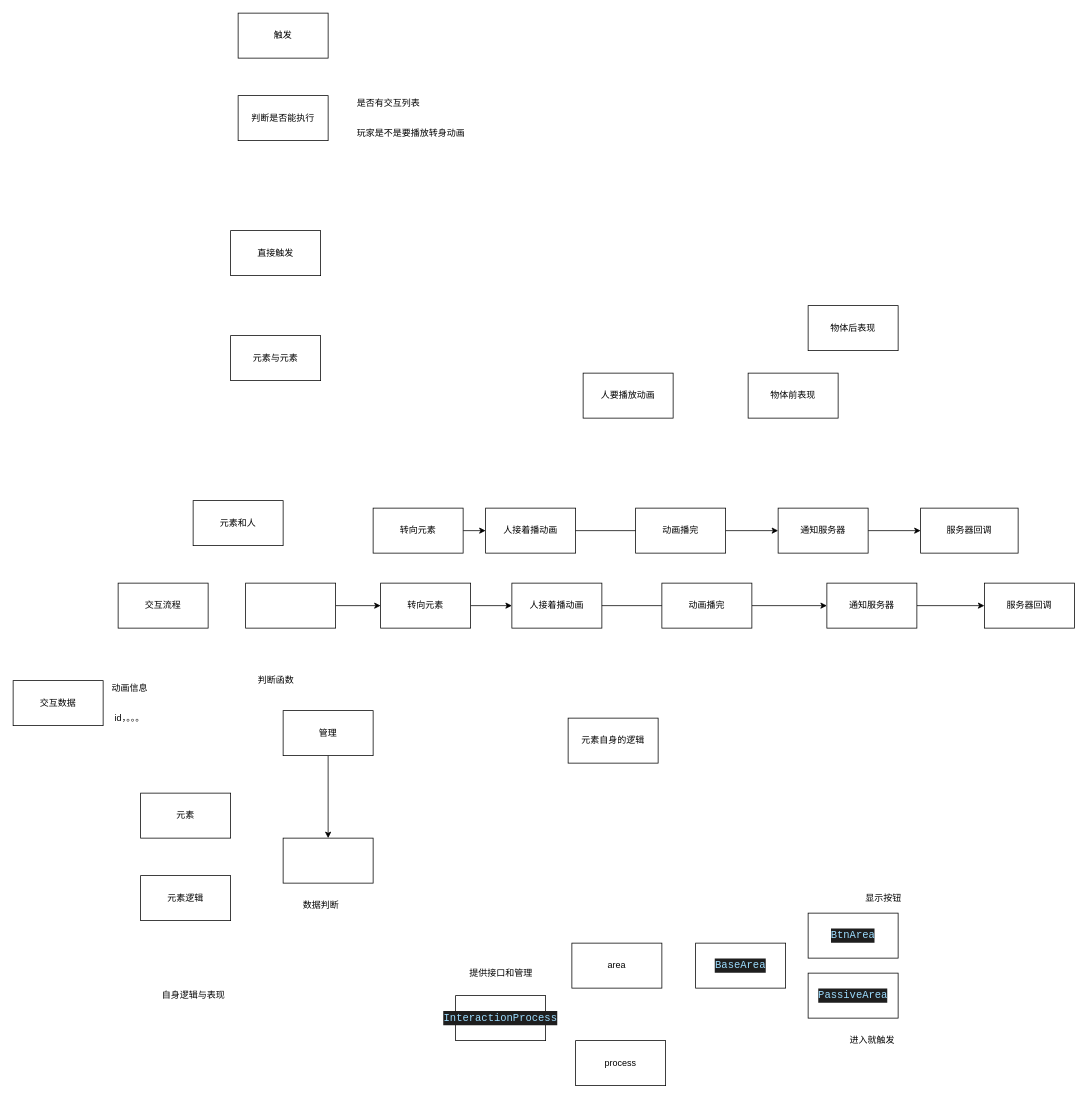
The diagram is 1088 pixels wide and 1099 high, and some of its shapes have lost their labels. Each missing label, with the centre of its shape:
"初始化构造数据 交互流程类" belongs at pixel 327 860.
"走进元素" belongs at pixel 290 605.
